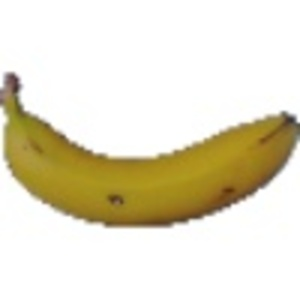banana: (1, 64, 300, 232)
